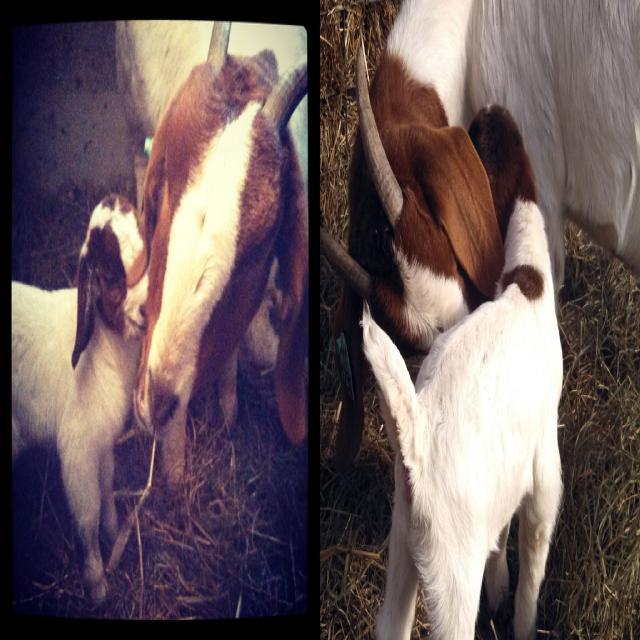Goat: (320, 0, 639, 470), (358, 100, 565, 638), (119, 21, 308, 491), (11, 190, 150, 606)
